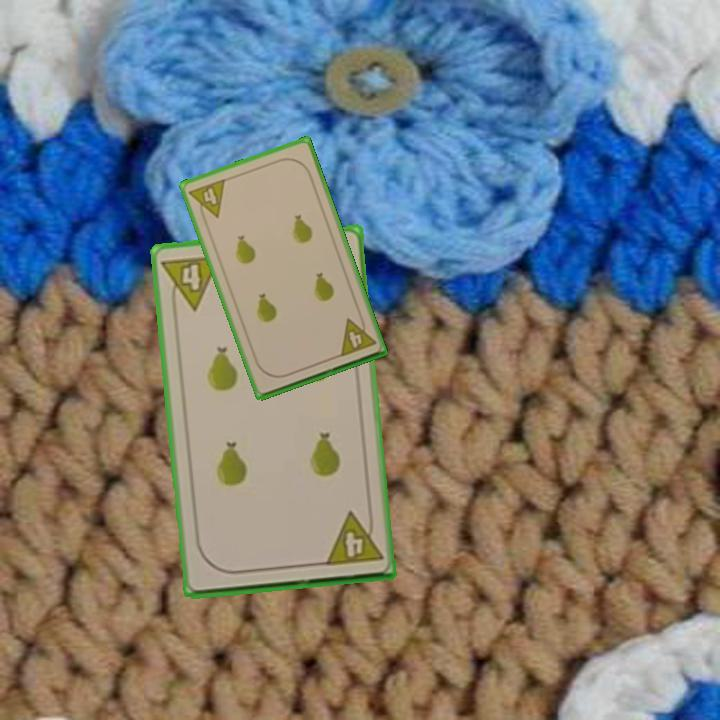4p: (158, 251, 223, 315), (320, 507, 385, 569), (185, 175, 228, 225), (336, 311, 379, 360)
